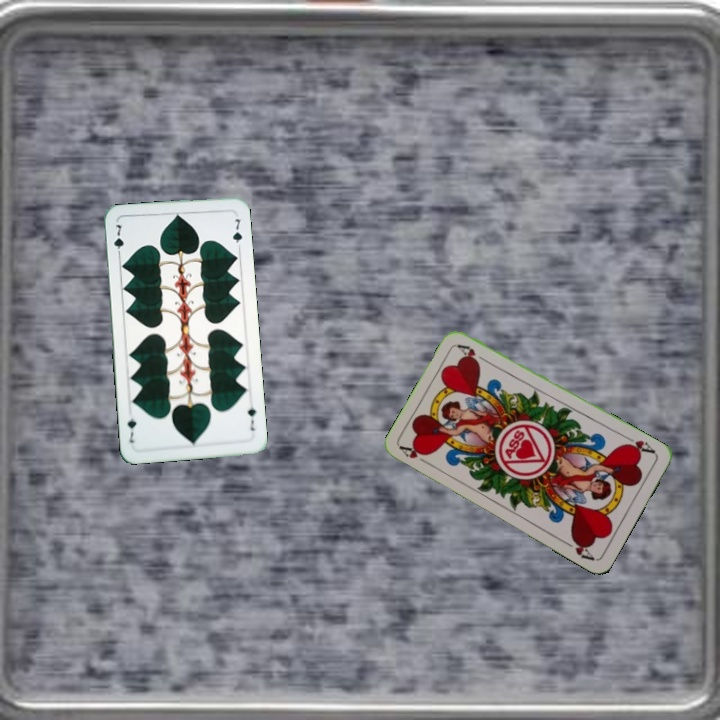G7: (110, 220, 126, 260), (244, 403, 258, 433)
HA: (620, 431, 658, 457), (396, 442, 434, 468)
